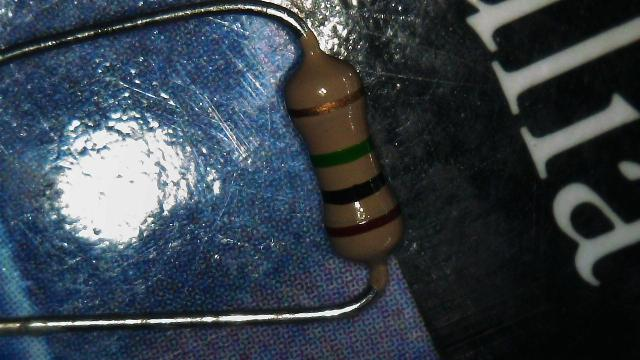black: (321, 174, 386, 204)
brown: (327, 206, 400, 236)
gold: (288, 90, 362, 117)
green: (310, 136, 374, 168)
resistor: (258, 22, 441, 285)
